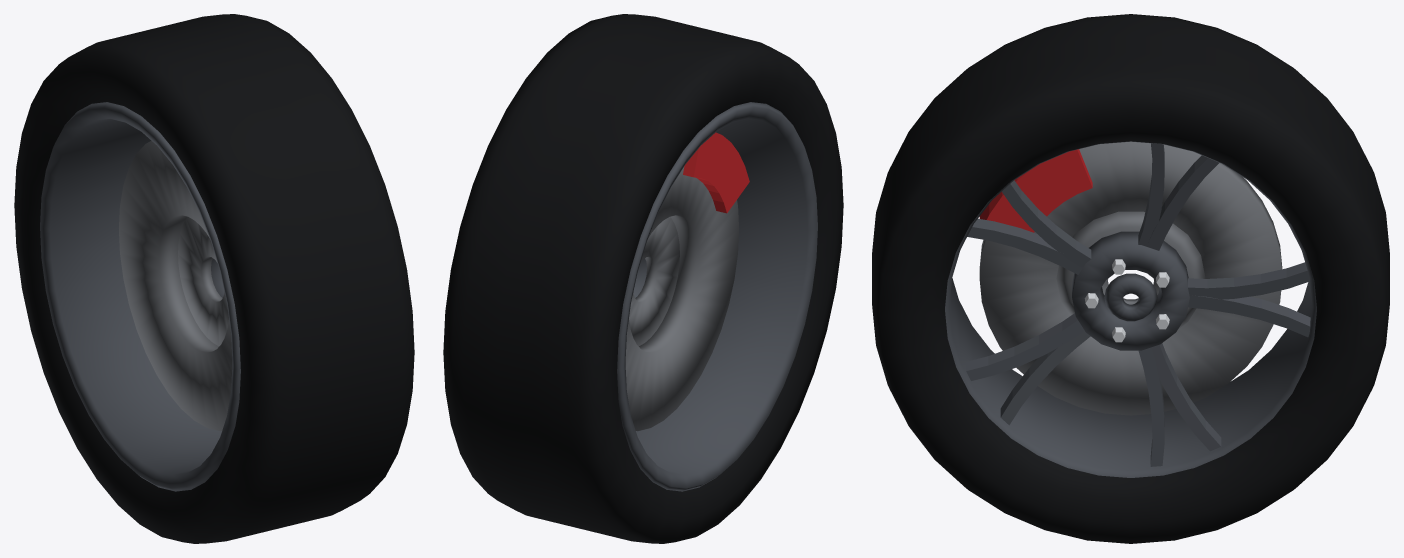
The model's file is w02_star5_19.glb.
3 views of the same model, side by side, from view 1: azimuth 30°, elevation 25°; view 2: azimuth 150°, elevation 25°; view 3: azimuth 270°, elevation 25° (orthographic).
Parts seen in each view (by area): view 1: wheel, brake; view 2: wheel, brake; view 3: wheel, brake.
Boxes of the visible parts, x1,y1,x2,y2 form: wheel: (14, 14, 414, 543); brake: (119, 141, 232, 431); wheel: (443, 14, 843, 543); brake: (625, 132, 749, 431); wheel: (872, 14, 1389, 543); brake: (979, 141, 1282, 415).
Size of what is drawn, in the model's own units: 0.235 by 0.66 by 0.66.
